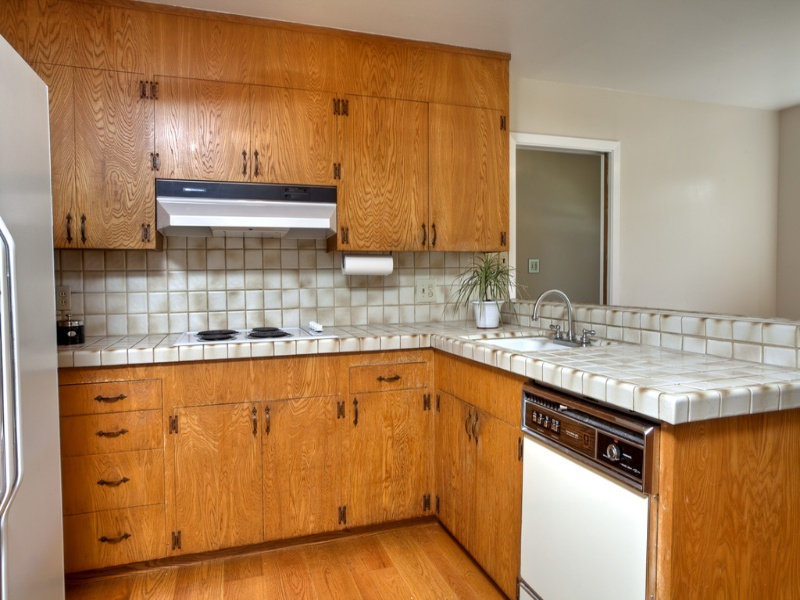refrigerator: (1, 34, 73, 598)
